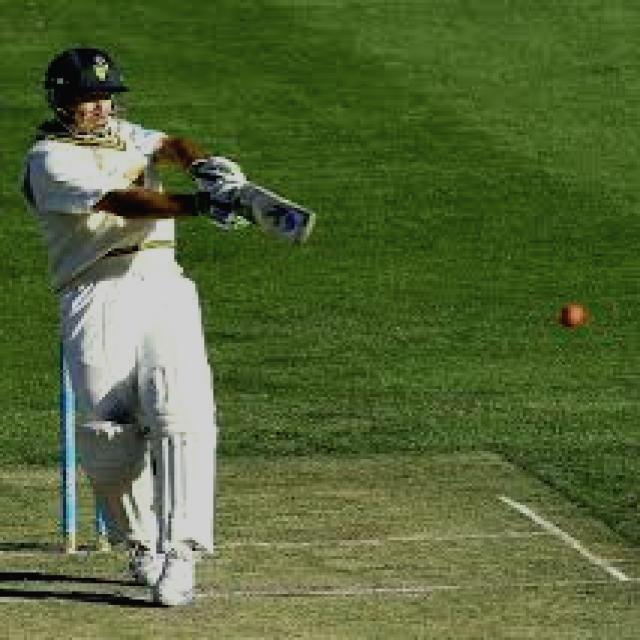toe: (288, 202, 319, 248)
